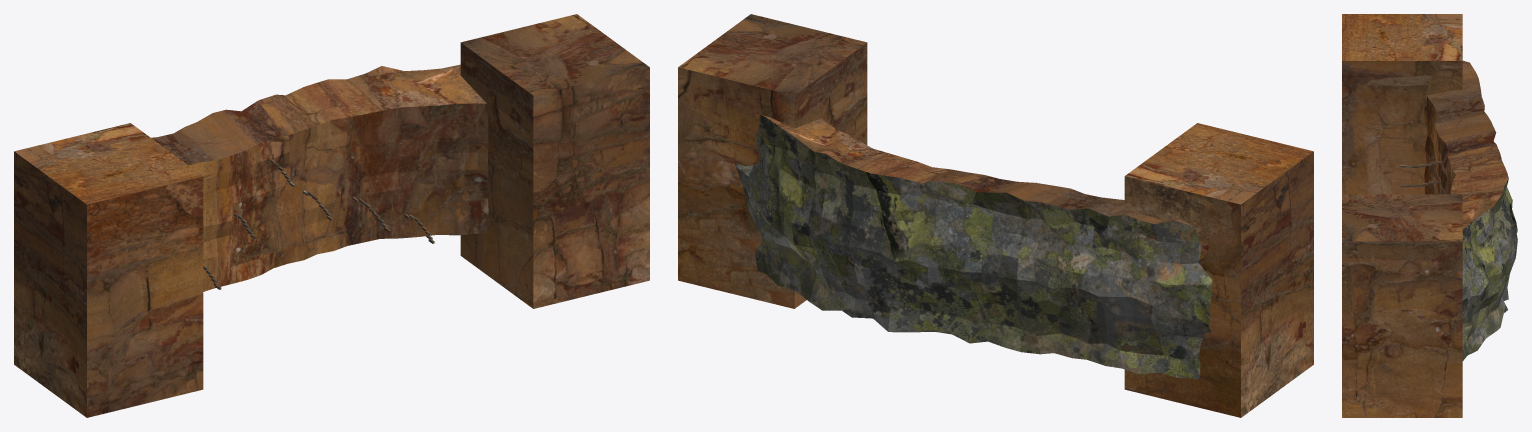
The model's file is Mossy_Natural_Rock_Arch.fbx.
The picture shows the model from 3 angles, left to right: view 1: azimuth 30°, elevation 25°; view 2: azimuth 150°, elevation 25°; view 3: azimuth 270°, elevation 25°; orthographic projection. The views are drawn at different scales.
Parts seen in each view (by area): view 1: Mossy_Natural_Rock_Arch; view 2: Mossy_Natural_Rock_Arch; view 3: Mossy_Natural_Rock_Arch.
Boxes of the visible parts, box(x1,y1,x2,y2) form: Mossy_Natural_Rock_Arch: box(14, 14, 649, 417); Mossy_Natural_Rock_Arch: box(678, 14, 1313, 417); Mossy_Natural_Rock_Arch: box(1342, 14, 1517, 417).
Size of the model in its own units: 29 by 10.5 by 9.47.
